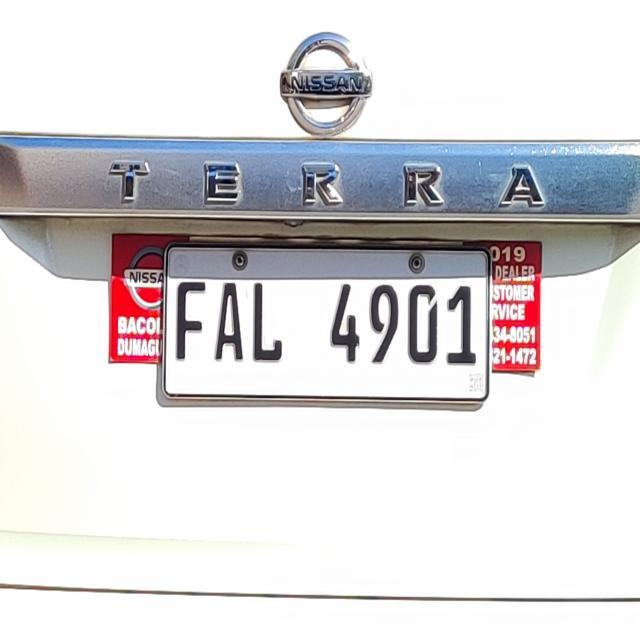LicensePlate: (151, 225, 501, 420)
